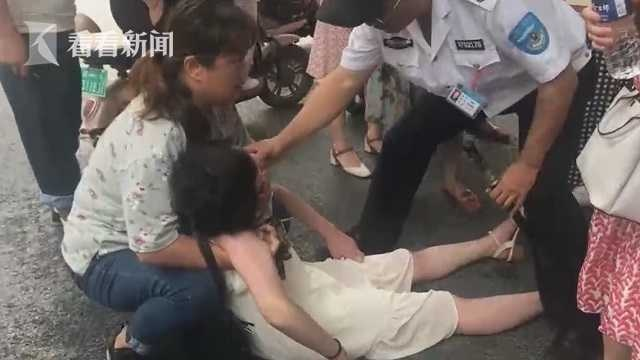falling: (178, 129, 542, 360)
